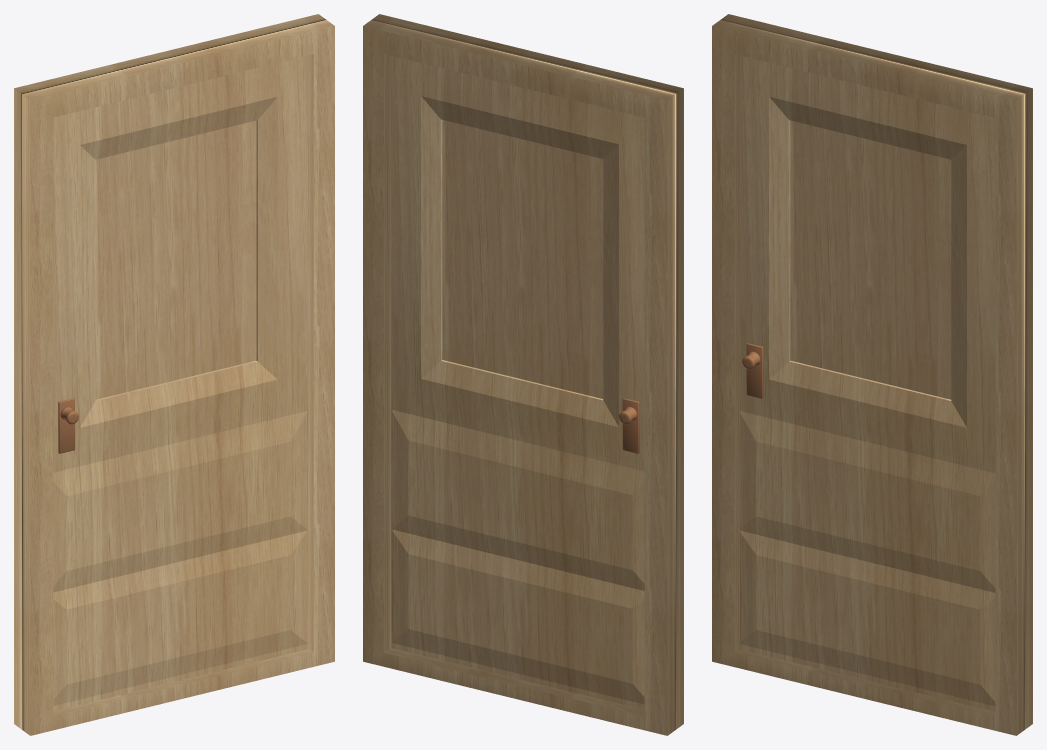
File: door.FBX
3 views of the same model, side by side, from view 1: azimuth 30°, elevation 25°; view 2: azimuth 150°, elevation 25°; view 3: azimuth 330°, elevation 25° (orthographic).
Visible parts, largest first — view 1: Box001, aldoor, doorhendle; view 2: Box001, aldoor, doorhendle; view 3: Box001, aldoor, doorhendle.
Part boxes in pixels (x1,y1,x2,y2): Box001: [53, 55, 307, 711]; aldoor: [14, 14, 334, 735]; doorhendle: [58, 398, 78, 453]; Box001: [391, 56, 644, 709]; aldoor: [363, 14, 683, 735]; doorhendle: [619, 398, 639, 453]; Box001: [740, 55, 995, 711]; aldoor: [712, 14, 1032, 735]; doorhendle: [742, 343, 763, 398].
Bounding box in the file's own units: 10.44 × 20.83 × 1.44.
Materials: 2 (1 with a texture image).
